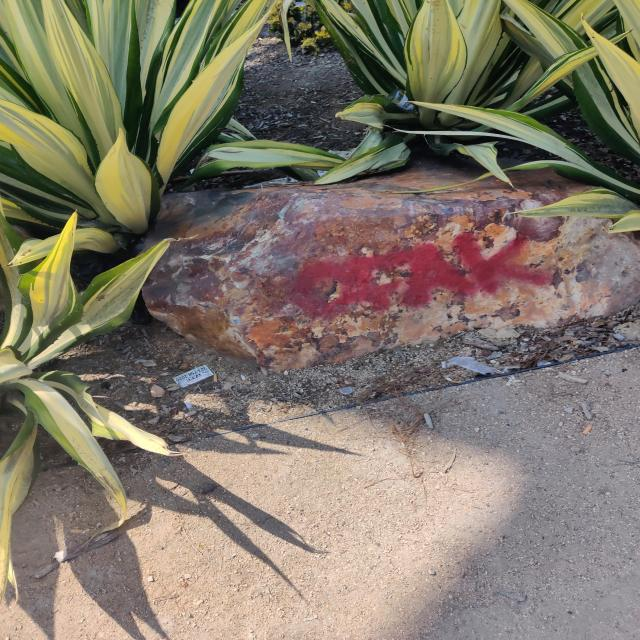litter: (173, 364, 214, 389), (448, 357, 496, 376), (388, 89, 417, 112), (581, 424, 593, 435), (451, 380, 464, 383), (214, 374, 217, 382)
